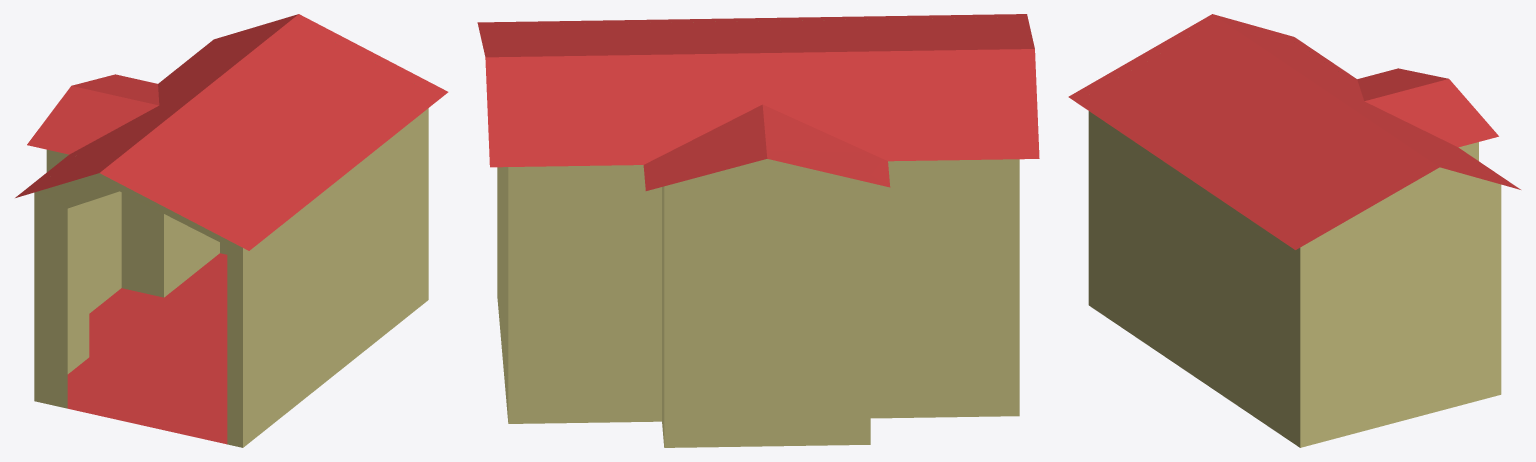
The picture shows the model from 3 angles, left to right: view 1: azimuth 30°, elevation 25°; view 2: azimuth 150°, elevation 25°; view 3: azimuth 270°, elevation 25°; orthographic projection. The views are drawn at different scales.
Bounding box in the file's own units: 16.98 × 15.27 × 9.32.
